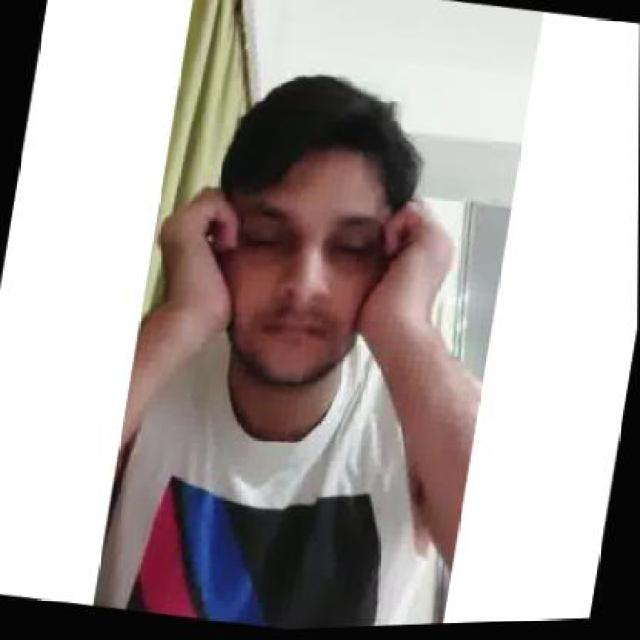inattentif: (190, 64, 401, 402)
